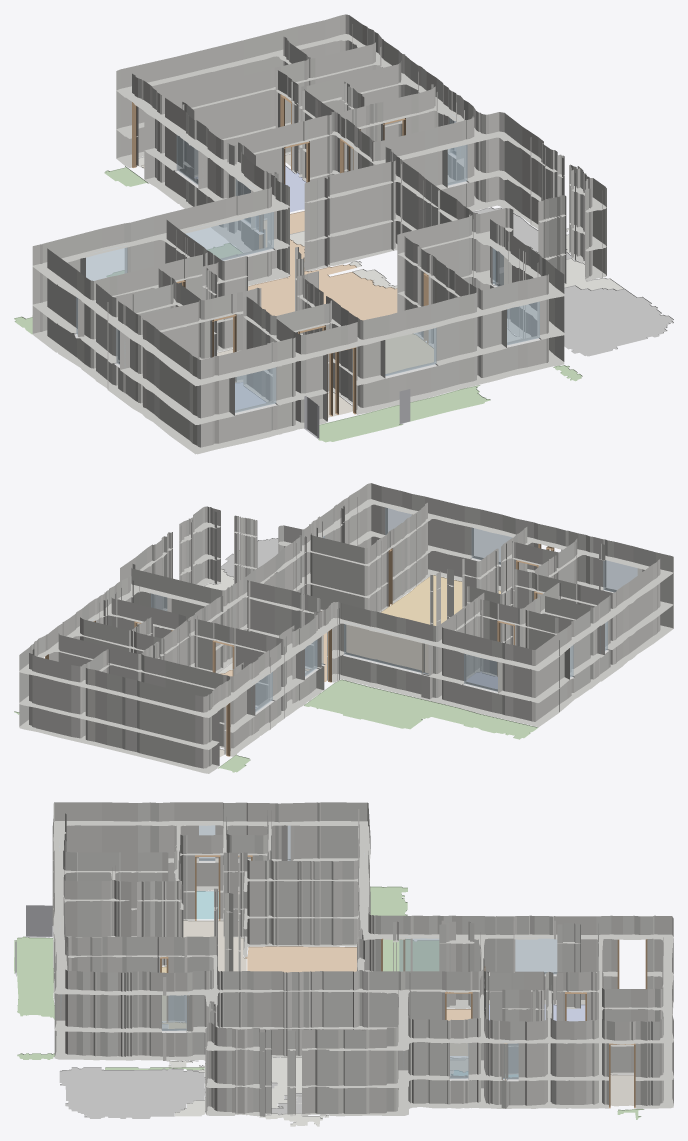
3 renders of one model, top to bottom at view 1: azimuth 30°, elevation 25°; view 2: azimuth 150°, elevation 25°; view 3: azimuth 270°, elevation 25°, orthographic. The views are drawn at different scales.
Parts seen in each view (by area): view 1: walls, floor_28_Garage, floor_10_Living_Room, floor_1_Outdoor, window_25, window_32, window_31, floor_9_Kitchen, window_30, window_24, railings, floor_37_Undefined (+4 smaller); view 2: walls, floor_4_Outdoor, window_25, floor_10_Living_Room, floor_9_Kitchen, window_24, window_32, window_31, floor_28_Garage, window_18; view 3: walls, floor_28_Garage, floor_10_Living_Room, floor_1_Outdoor, floor_4_Outdoor, floor_37_Undefined, window_18, floor_18_Entry, railings, window_21, window_29, floor_27_Storage (+4 smaller).
Boxes of the visible parts, x1,y1,x2,y2 form: walls: [32, 14, 606, 454]; floor_28_Garage: [564, 285, 673, 356]; floor_10_Living_Room: [248, 211, 397, 320]; floor_1_Outdoor: [318, 385, 490, 442]; window_25: [183, 212, 273, 260]; window_32: [385, 325, 436, 375]; window_31: [235, 367, 276, 412]; floor_9_Kitchen: [385, 334, 433, 373]; window_30: [505, 301, 539, 345]; window_24: [86, 245, 127, 280]; railings: [304, 389, 410, 438]; floor_37_Undefined: [535, 251, 623, 290]; walls: [19, 483, 673, 773]; floor_4_Outdoor: [304, 679, 538, 739]; window_25: [344, 622, 428, 674]; floor_10_Living_Room: [220, 611, 428, 681]; floor_9_Kitchen: [381, 575, 500, 625]; window_24: [464, 651, 497, 691]; window_32: [471, 527, 512, 564]; window_31: [603, 560, 637, 592]; floor_28_Garage: [221, 538, 278, 580]; window_18: [251, 668, 272, 712]; walls: [52, 802, 673, 1116]; floor_28_Garage: [59, 1067, 205, 1118]; floor_10_Living_Room: [245, 946, 470, 1055]; floor_1_Outdoor: [14, 936, 54, 1019]; floor_4_Outdoor: [370, 886, 438, 971]; floor_37_Undefined: [174, 1057, 301, 1116]; window_18: [515, 938, 557, 974]; floor_18_Entry: [183, 920, 246, 971]; railings: [15, 905, 52, 976]; window_21: [412, 938, 439, 971]; window_29: [162, 995, 186, 1030]; floor_27_Storage: [610, 1074, 633, 1106].
Bounding box in the file's own units: 16.57 × 2.72 × 19.26.
